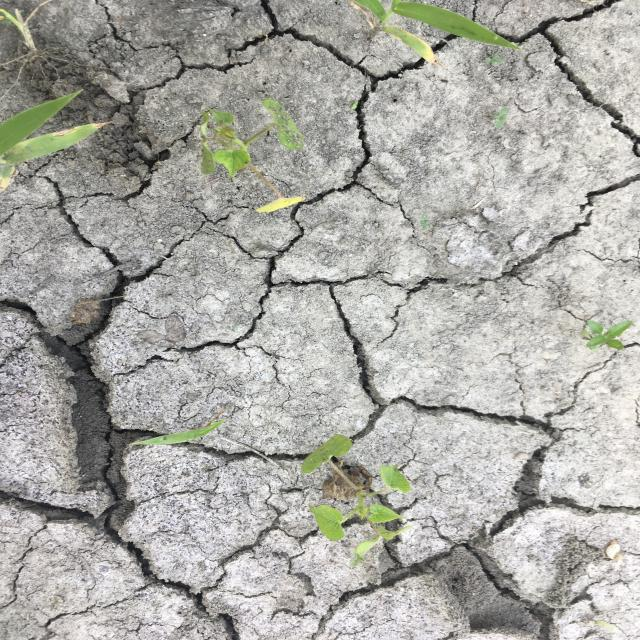MorningGlory: (299, 432, 415, 569), (195, 97, 308, 215)
